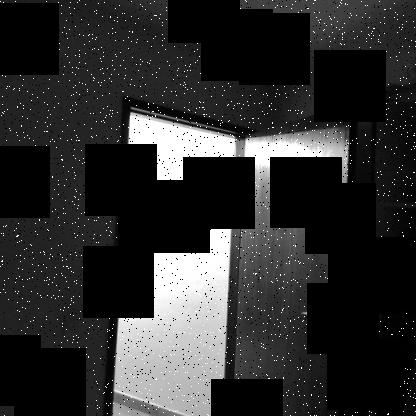Porte: (102, 94, 364, 415)
